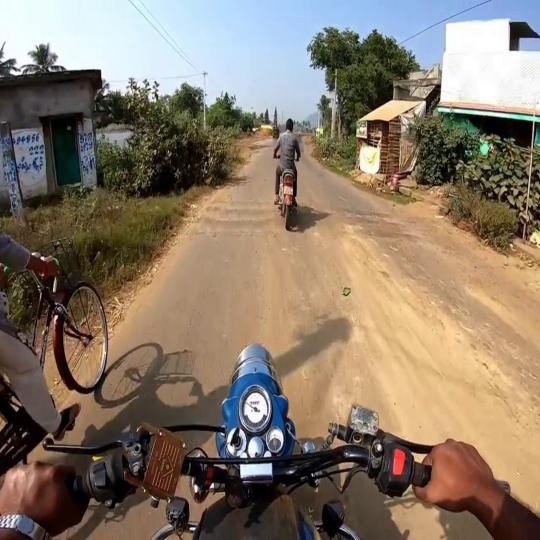Speed Bump: (296, 224, 417, 244), (298, 199, 398, 218), (298, 214, 410, 230), (194, 216, 281, 232), (201, 206, 281, 220), (206, 200, 276, 208)
